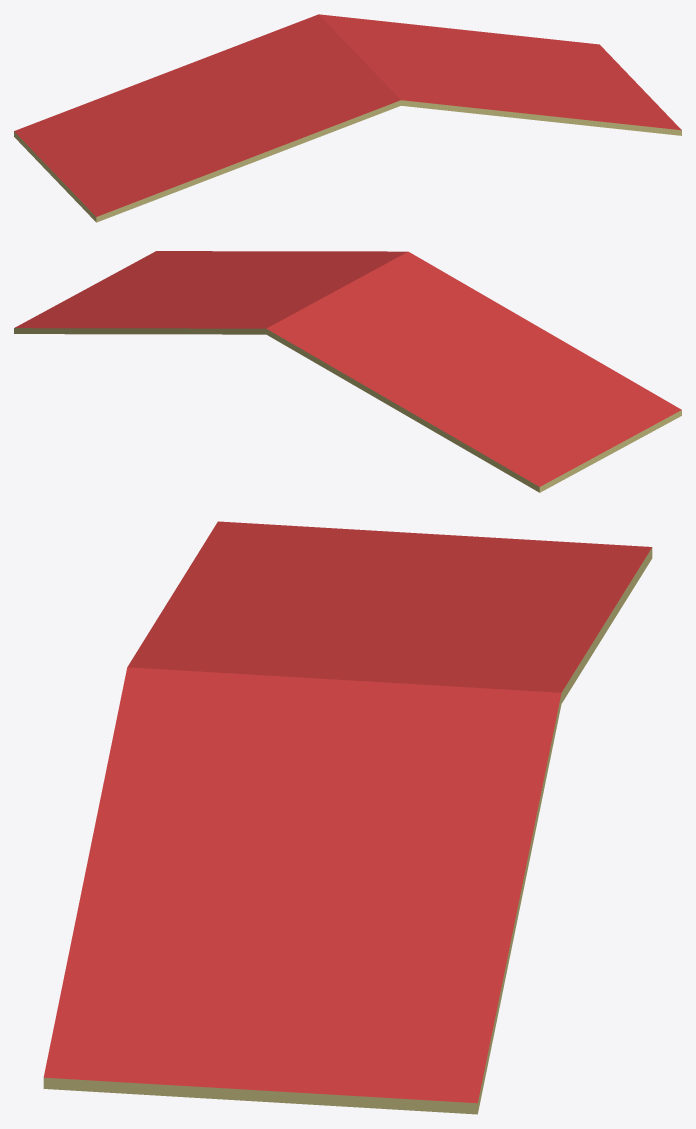
3 views of the same model, one above another, from view 1: azimuth 30°, elevation 25°; view 2: azimuth 150°, elevation 25°; view 3: azimuth 270°, elevation 25° (orthographic). The views are drawn at different scales.
Size of the model in its own units: 10.57 by 4.91 by 1.49.
